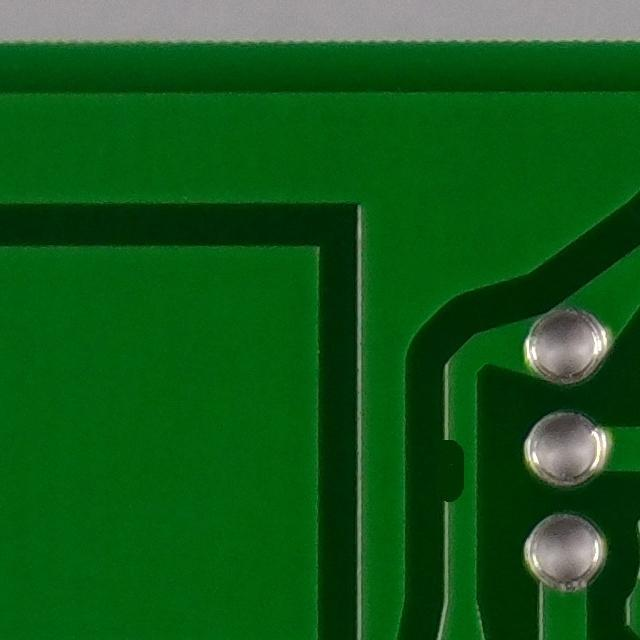mouse_bite: (422, 425, 492, 518)
